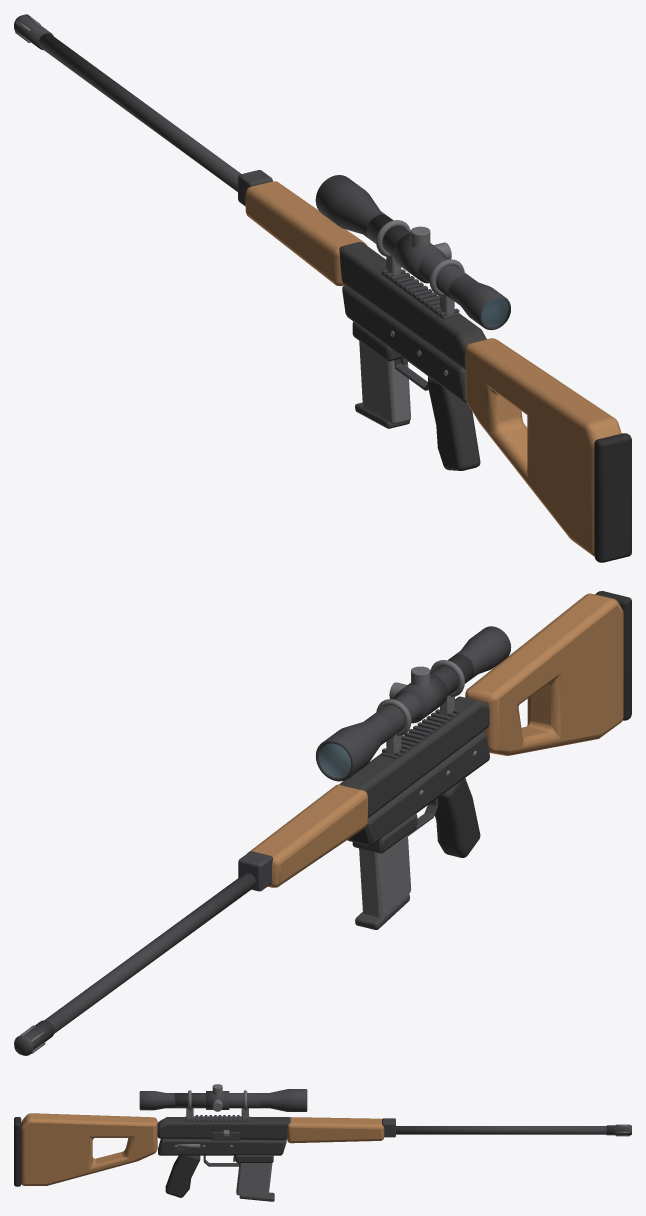
Rendered from w_svd.glb.
The picture shows the model from 3 angles, top to bottom: view 1: azimuth 30°, elevation 25°; view 2: azimuth 150°, elevation 25°; view 3: azimuth 270°, elevation 25°; orthographic projection. The views are drawn at different scales.
Parts seen in each view (by area): view 1: body, mag; view 2: body, mag; view 3: body, mag.
Boxes of the visible parts, x1,y1,x2,y2 form: body: (14,14,631,562); mag: (355,341,410,428); body: (14,591,631,1055); mag: (355,835,411,929); body: (14,1084,631,1197); mag: (236,1163,274,1201).
Bounding box in the file's own units: 0.0544 × 0.2469 × 1.22.
